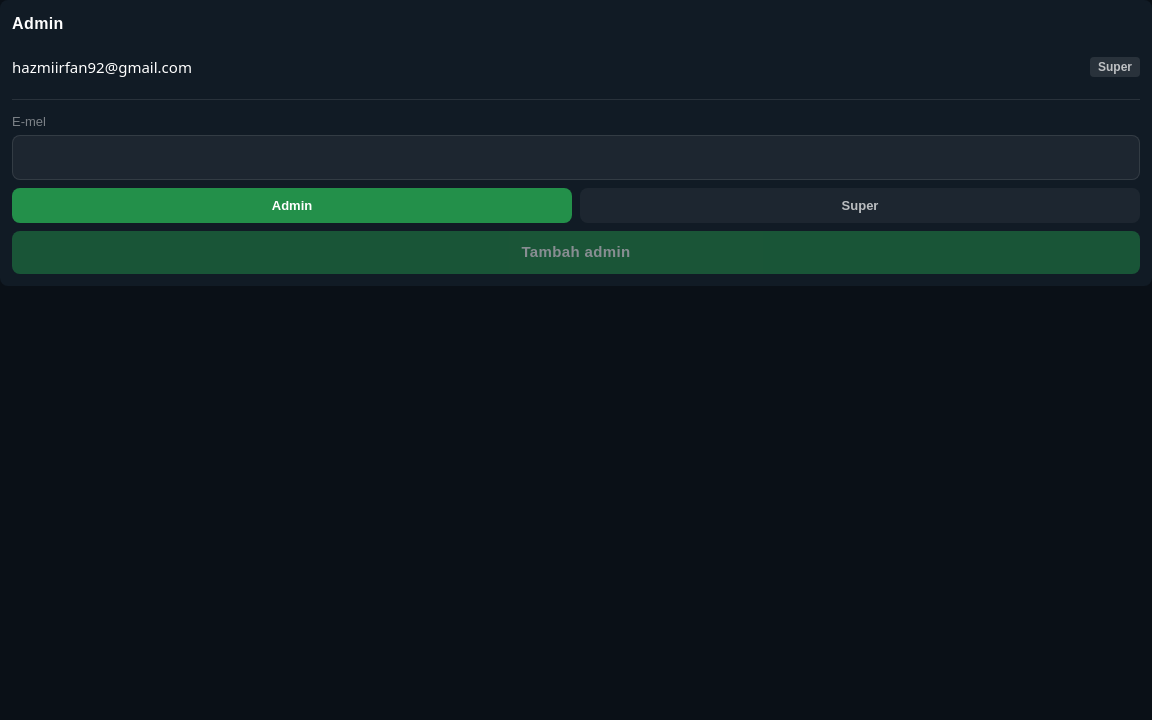
Scenario: AdminList › adds an admin and tells the caller what happens next
expect the text "hazmiirfan92@gmail.com" is shown: met, box [12,56,192,78]
In the field labelled "E-mel": coordinates (576, 157) [12,135,1140,180], type "new-admin@example.com"
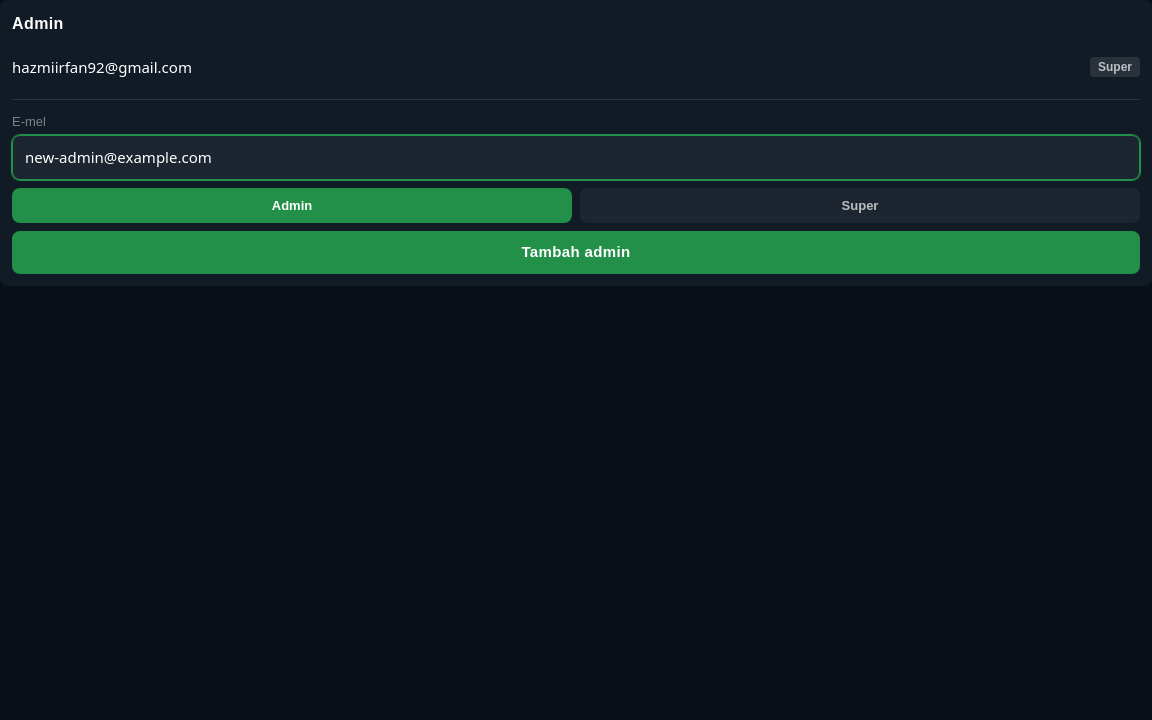
Click the button "Tambah admin": coordinates (576, 252) [12,231,1140,274]
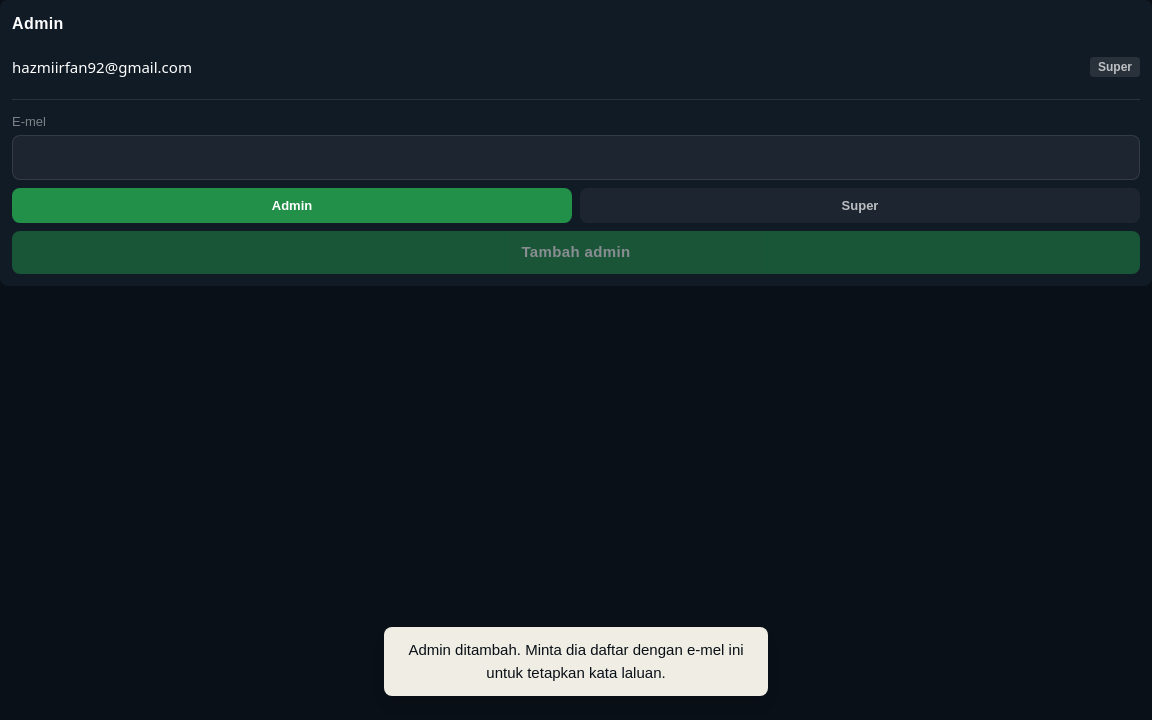
expect the message shows "Minta dia daftar dengan e-mel ini untuk tetapkan kata laluan.": met, box [408,641,744,680]
